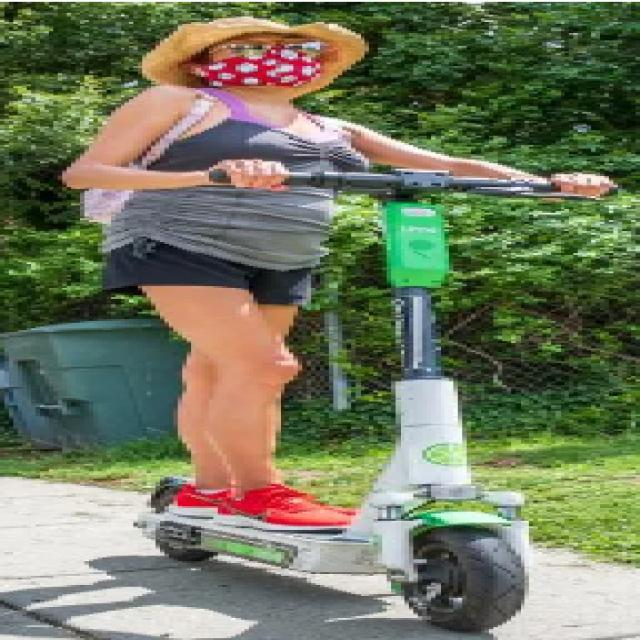non-helmet: (36, 0, 622, 640)
